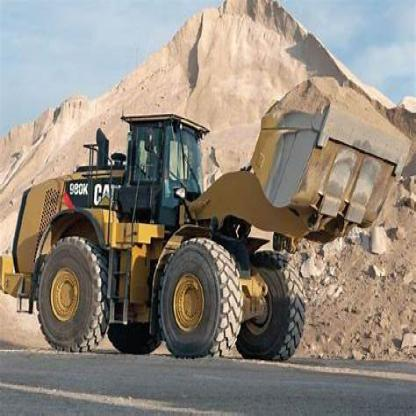bull_dozer/loader/grader: (5, 74, 407, 368)
